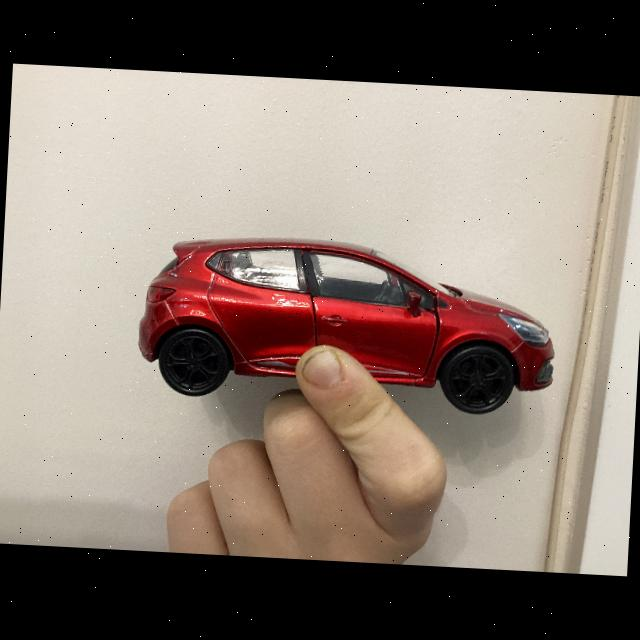Dogru_Jant: (449, 351, 506, 408), (166, 335, 222, 392)
